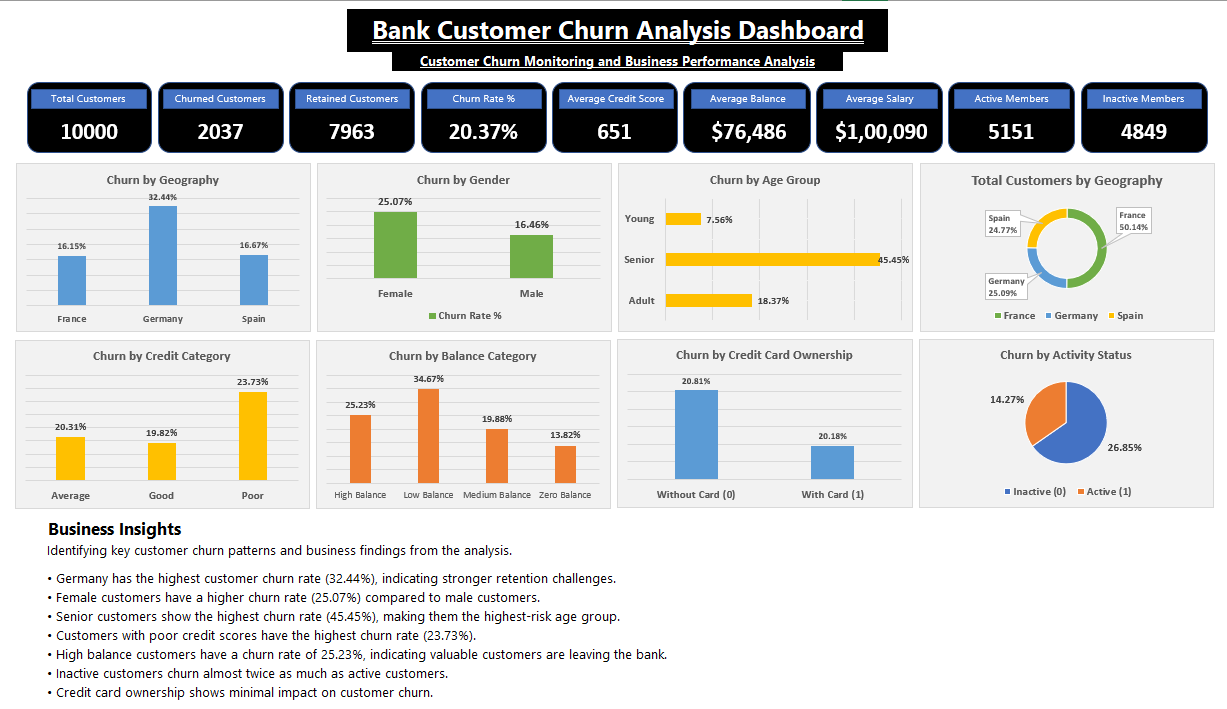

Layout of this report page (visuals, bound fields, positions):
{"tool":"powerbi","page":{"name":"Page 1","canvas":[1280,720],"ordinal":0},"visuals":[{"type":"group","id":"g1","title":"KPI Card","box":[5.5,92.8,1267.8,70],"z":0},{"type":"group","id":"g2","title":"Background KPI","box":[5.5,92.8,1267.8,70],"z":0,"group":"g1"},{"type":"shape","box":[1139.6,92.8,133.7,70],"z":0,"group":"g2"},{"type":"card","fields":{"Values":["Measure Table.Total Customers"]},"box":[10.5,97.2,123.6,61.1],"z":0,"group":"g3"},{"type":"card","fields":{"Values":["Measure Table.Churned Customers"]},"box":[152.3,97.2,123.6,61.1],"z":1000,"group":"g3"},{"type":"clusteredColumnChart","title":"Churn by Geography","fields":{"Category":["Bank Customer Churn CSV.Geography"],"Y":["Measure Table.Churn Rate %"]},"box":[8.7,175.7,264.1,186.6],"z":1000},{"type":"image","box":[5.5,18,141.9,65],"z":2000,"group":"g4"},{"type":"shape","box":[997.8,92.8,133.7,70],"z":2000,"group":"g2"},{"type":"card","fields":{"Values":["Measure Table.Retained Customers"]},"box":[294.1,97.2,123.6,61.1],"z":2000,"group":"g3"},{"type":"slicer","fields":{"Values":["Bank Customer Churn CSV.Geography"]},"box":[1138.1,176.8,136.8,121.3],"z":2000},{"type":"textbox","box":[4.8,1.4,142.2,26.5],"z":3000,"group":"g4"},{"type":"shape","box":[856.1,92.8,133.7,70],"z":3000,"group":"g2"},{"type":"card","fields":{"Values":["Measure Table.Churn Rate %"]},"box":[436,97.2,123.6,61.1],"z":3000,"group":"g3"},{"type":"clusteredBarChart","title":"Customer Churn by Gender","fields":{"Category":["Bank Customer Churn CSV.Gender"],"Y":["Measure Table.Churn Rate %"]},"box":[293.5,175.7,264.1,186.6],"z":3000},{"type":"shape","box":[714.3,92.8,133.7,70],"z":4000,"group":"g2"},{"type":"card","fields":{"Values":["Measure Table.Average Credit Score"]},"box":[577.8,97.2,123.6,61.1],"z":4000,"group":"g3"},{"type":"slicer","fields":{"Values":["Bank Customer Churn CSV.Gender"]},"box":[1139.1,317.6,138,91.3],"z":4000},{"type":"shape","box":[572.5,92.8,133.7,70],"z":5000,"group":"g2"},{"type":"card","fields":{"Values":["Measure Table.Average Balance"]},"box":[719.6,97.2,123.6,61.1],"z":5000,"group":"g3"},{"type":"clusteredColumnChart","title":"Churn by Age Group","fields":{"Category":["Bank Customer Churn CSV.Age_Group"],"Y":["Measure Table.Churn Rate %"]},"box":[576.2,175.7,263,186.6],"z":5000},{"type":"shape","box":[430.8,92.8,133.7,70],"z":6000,"group":"g2"},{"type":"card","fields":{"Values":["Measure Table.Average Salary"]},"box":[861.4,97.2,123.6,61.1],"z":6000,"group":"g3"},{"type":"slicer","fields":{"Values":["Bank Customer Churn CSV.Age_Group"]},"box":[1141.3,428.3,134.8,119.6],"z":6000},{"type":"shape","box":[289,92.8,133.7,70],"z":7000,"group":"g2"},{"type":"card","fields":{"Values":["Measure Table.Active Members"]},"box":[1003.3,97.2,123.6,61.1],"z":7000,"group":"g3"},{"type":"clusteredColumnChart","title":"Churn by Credit Category","fields":{"Category":["Bank Customer Churn CSV.Credit_Category"],"Y":["Measure Table.Churn Rate %"]},"box":[859.9,175.7,263,186.6],"z":7000},{"type":"shape","box":[147.3,92.8,133.7,70],"z":8000,"group":"g2"},{"type":"card","fields":{"Values":["Measure Table.Inactive Members"]},"box":[1145.1,97.2,123.6,61.1],"z":8000,"group":"g3"},{"type":"slicer","fields":{"Values":["Bank Customer Churn CSV.Credit_Category"]},"box":[1122.8,567.4,151.1,125],"z":8000},{"type":"group","id":"g3","title":"KPI Values","box":[10.5,97.2,1258.2,61.1],"z":8003,"group":"g1"},{"type":"shape","box":[5.5,92.8,133.7,70],"z":9000,"group":"g2"},{"type":"clusteredColumnChart","title":"Churn by Balance Category","fields":{"Category":["Bank Customer Churn CSV.Balance_Category"],"Y":["Measure Table.Churn Rate %"]},"box":[8.7,374.3,264.1,186.6],"z":9000},{"type":"textbox","box":[357.9,4.4,563.1,76.4],"z":10000},{"type":"clusteredBarChart","title":"Activity Status","fields":{"Category":["Bank Customer Churn CSV.Activity Status"],"Y":["Measure Table.Churn Rate %"]},"box":[293.5,374.3,263,184.4],"z":11000},{"type":"donutChart","title":"Customer Distribution by Geography","fields":{"Category":["Bank Customer Churn CSV.Geography"],"Y":["Measure Table.Total Customers"]},"box":[859.9,376.5,264.1,184.4],"z":12000},{"type":"clusteredColumnChart","title":"Churn by Credit Category","fields":{"Category":["Bank Customer Churn CSV.Credit Card Status"],"Y":["Measure Table.Churn Rate %"]},"box":[577.3,374.3,263,186.6],"z":13000},{"type":"textbox","box":[15.3,569.6,541.2,150.6],"z":14000},{"type":"group","id":"g4","title":"Group 1","box":[4.8,1.4,142.6,81.6],"z":15000}]}

Visuals, with their boxes in screenshot pixels (x1, y1, x2, y2), scaled from the page's 1280x720 canvas onto the 1227x709 screenshot:
"KPI Card" group: region(5, 91, 1221, 160)
"Background KPI" group: region(5, 91, 1221, 160)
shape: region(1092, 91, 1221, 160)
card - Measure Table.Total Customers: region(10, 96, 129, 156)
card - Measure Table.Churned Customers: region(146, 96, 264, 156)
"Churn by Geography" clusteredColumnChart: region(8, 173, 262, 357)
image: region(5, 18, 141, 82)
shape: region(956, 91, 1085, 160)
card - Measure Table.Retained Customers: region(282, 96, 400, 156)
slicer - Bank Customer Churn CSV.Geography: region(1091, 174, 1222, 294)
textbox: region(5, 1, 141, 27)
shape: region(821, 91, 949, 160)
card - Measure Table.Churn Rate %: region(418, 96, 536, 156)
"Customer Churn by Gender" clusteredBarChart: region(281, 173, 535, 357)
shape: region(685, 91, 813, 160)
card - Measure Table.Average Credit Score: region(554, 96, 672, 156)
slicer - Bank Customer Churn CSV.Gender: region(1092, 313, 1224, 403)
shape: region(549, 91, 677, 160)
card - Measure Table.Average Balance: region(690, 96, 808, 156)
"Churn by Age Group" clusteredColumnChart: region(552, 173, 804, 357)
shape: region(413, 91, 541, 160)
card - Measure Table.Average Salary: region(826, 96, 944, 156)
slicer - Bank Customer Churn CSV.Age_Group: region(1094, 422, 1223, 540)
shape: region(277, 91, 405, 160)
card - Measure Table.Active Members: region(962, 96, 1080, 156)
"Churn by Credit Category" clusteredColumnChart: region(824, 173, 1076, 357)
shape: region(141, 91, 269, 160)
card - Measure Table.Inactive Members: region(1098, 96, 1216, 156)
slicer - Bank Customer Churn CSV.Credit_Category: region(1076, 559, 1221, 682)
"KPI Values" group: region(10, 96, 1216, 156)
shape: region(5, 91, 133, 160)
"Churn by Balance Category" clusteredColumnChart: region(8, 369, 262, 552)
textbox: region(343, 4, 883, 80)
"Activity Status" clusteredBarChart: region(281, 369, 533, 550)
"Customer Distribution by Geography" donutChart: region(824, 371, 1077, 552)
"Churn by Credit Category" clusteredColumnChart: region(553, 369, 806, 552)
textbox: region(15, 561, 533, 708)
"Group 1" group: region(5, 1, 141, 82)
